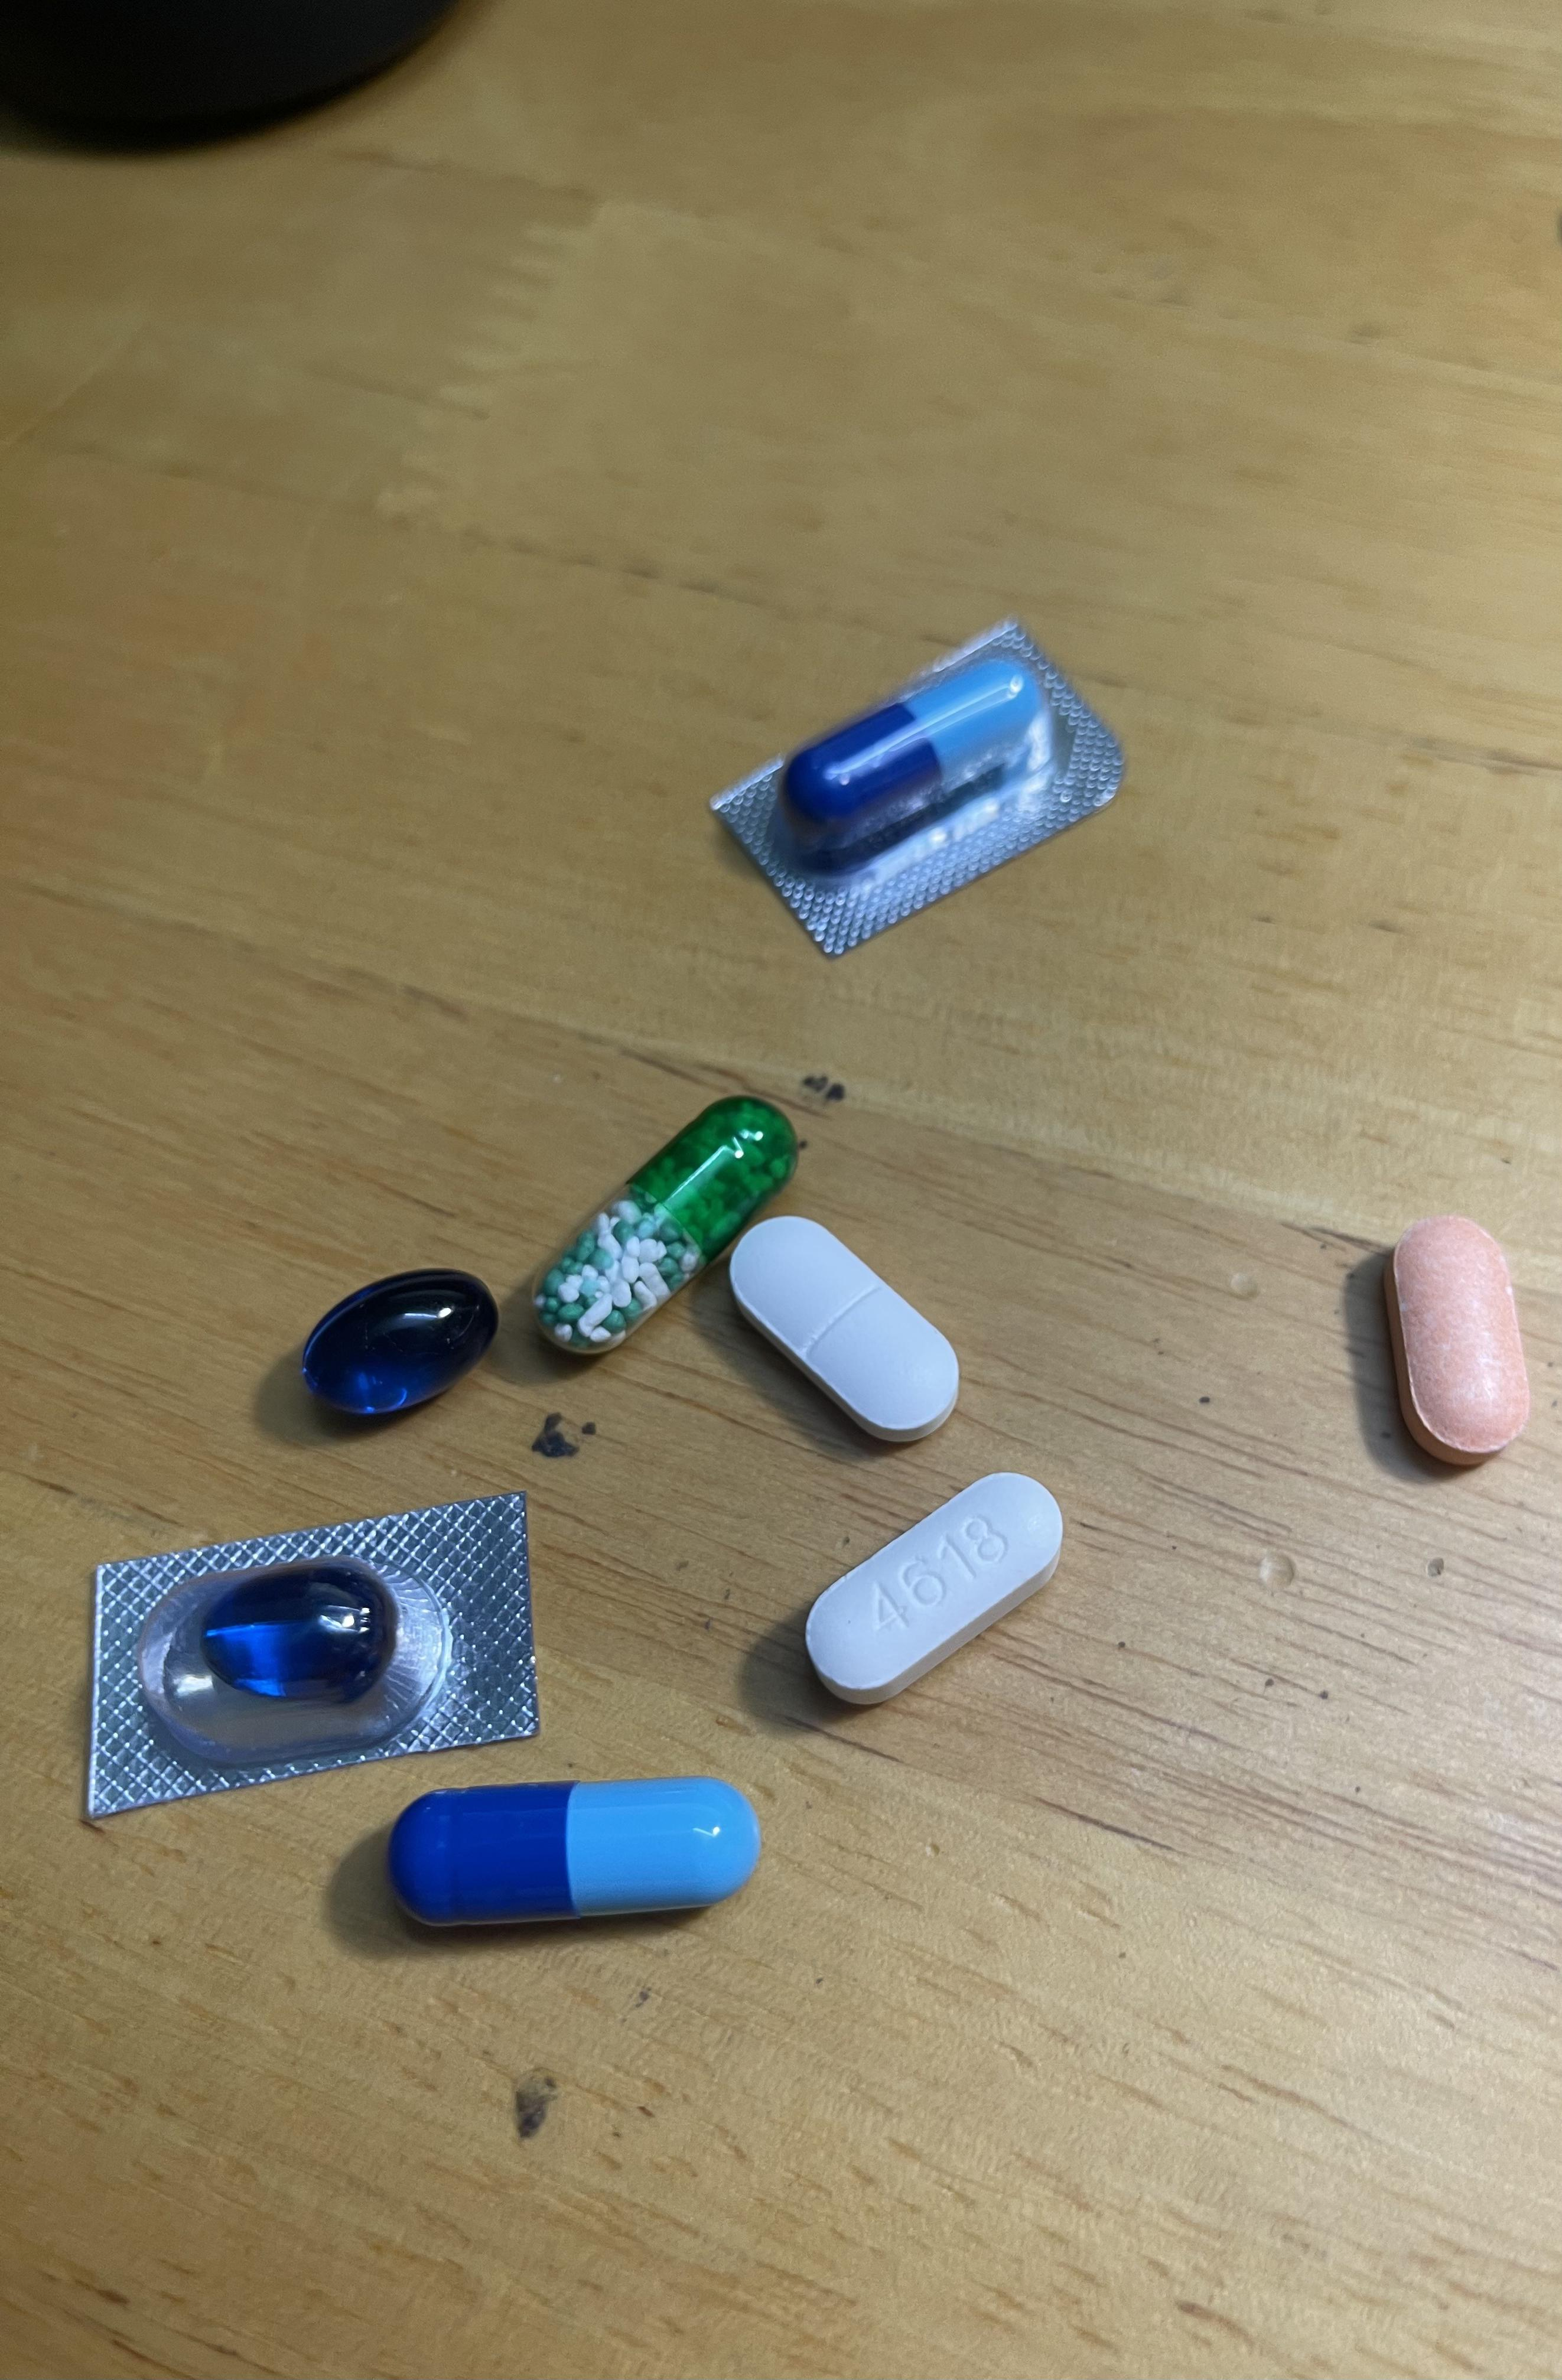Lincomyxin_500mg: (305, 1274, 497, 1418), (199, 1577, 387, 1695)
Loratadine_10mg: (1381, 1214, 1524, 1465)
Paracetamol_350mg: (734, 1213, 957, 1437)
Paracetamol_500mg: (809, 1471, 1055, 1697)
Paracetamol_650mg: (537, 1101, 793, 1356)
pill: (786, 650, 1051, 864), (394, 1784, 751, 1927)
